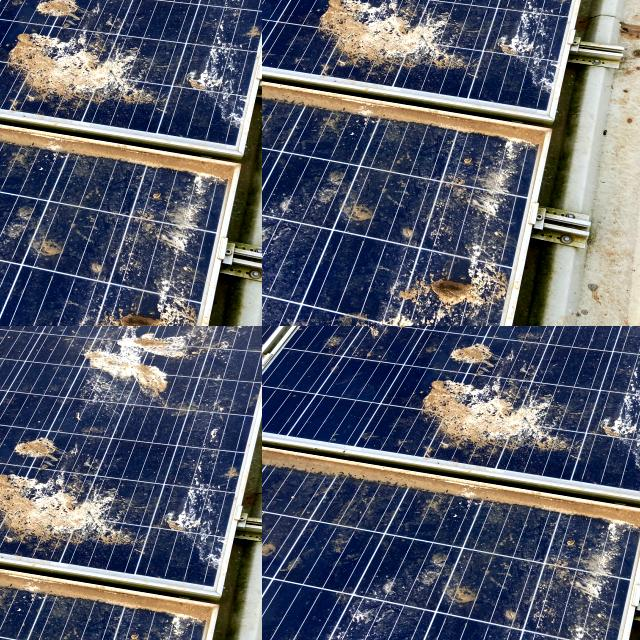bird: (422, 378, 578, 464), (504, 326, 640, 399), (386, 534, 498, 614), (564, 524, 634, 612), (302, 326, 417, 376), (588, 359, 640, 458), (267, 596, 383, 640), (430, 326, 537, 372), (262, 511, 324, 583)
hotspot: (262, 0, 398, 47), (425, 0, 473, 20)
panel: (0, 0, 62, 32), (0, 0, 37, 34), (0, 0, 41, 24), (0, 0, 42, 16), (0, 0, 51, 8), (0, 0, 46, 8), (0, 0, 32, 4)
